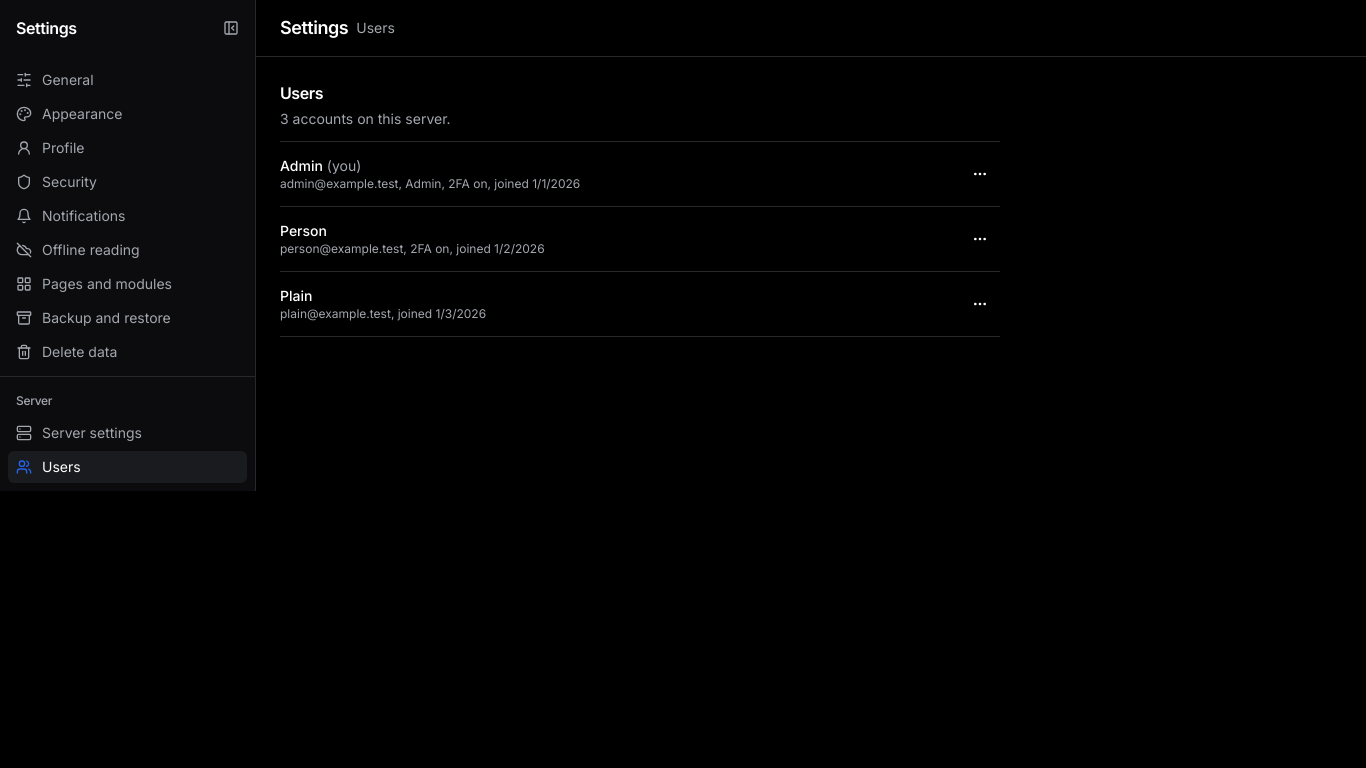
admin changes to another account › a role change waits for the admin password
Step 1. Press the mouse on the button named "Actions for plain@example.test" → (980, 304), box x1=960 y1=284 x2=1000 y2=324
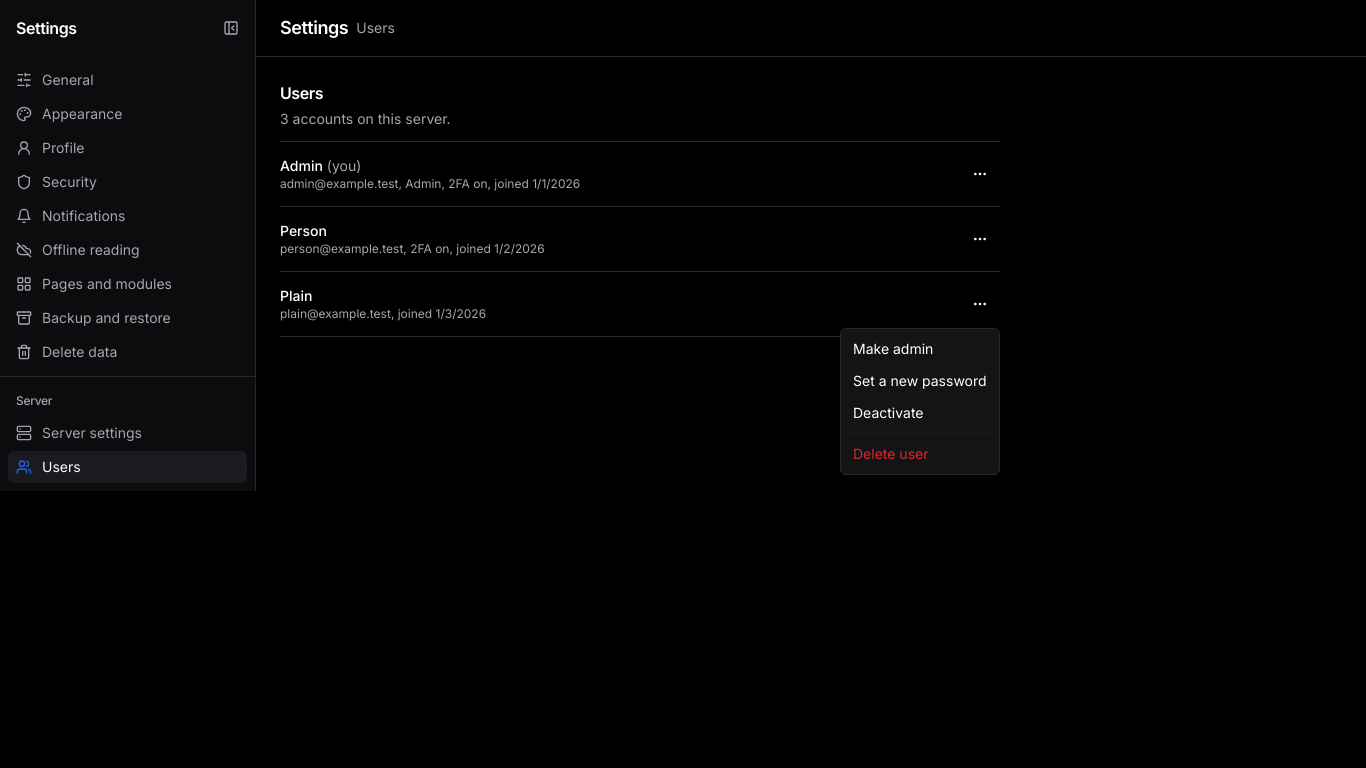
Step 2. Click the menu item "Make admin" → (893, 348), box x1=853 y1=340 x2=933 y2=357
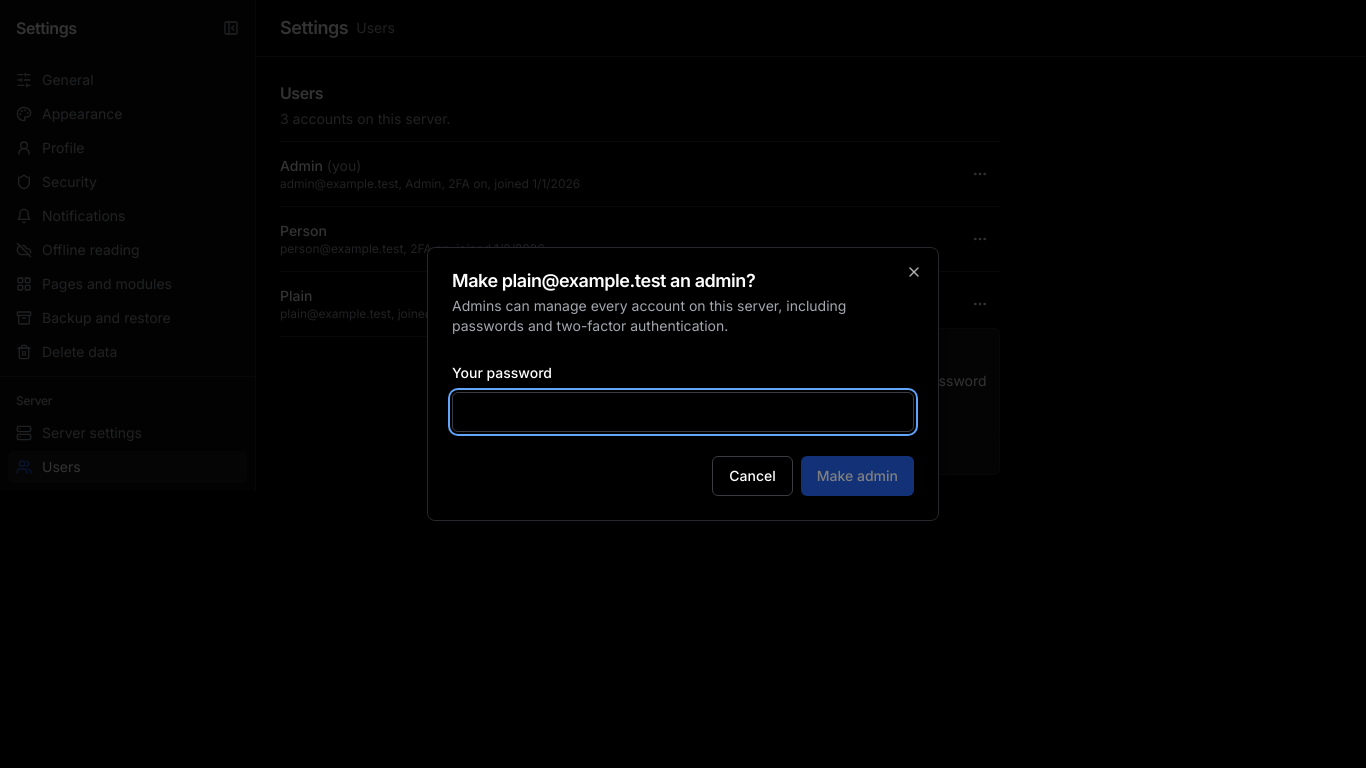
Check: the heading "Make plain@example.test an admin?" is shown, box x1=452 y1=270 x2=755 y2=291
Check: the button "Make admin" is disabled, box x1=801 y1=456 x2=914 y2=496
Step 3. Type "synthetic-admin-password" into the password field labelled "Your password" → (683, 412), box x1=452 y1=392 x2=914 y2=432
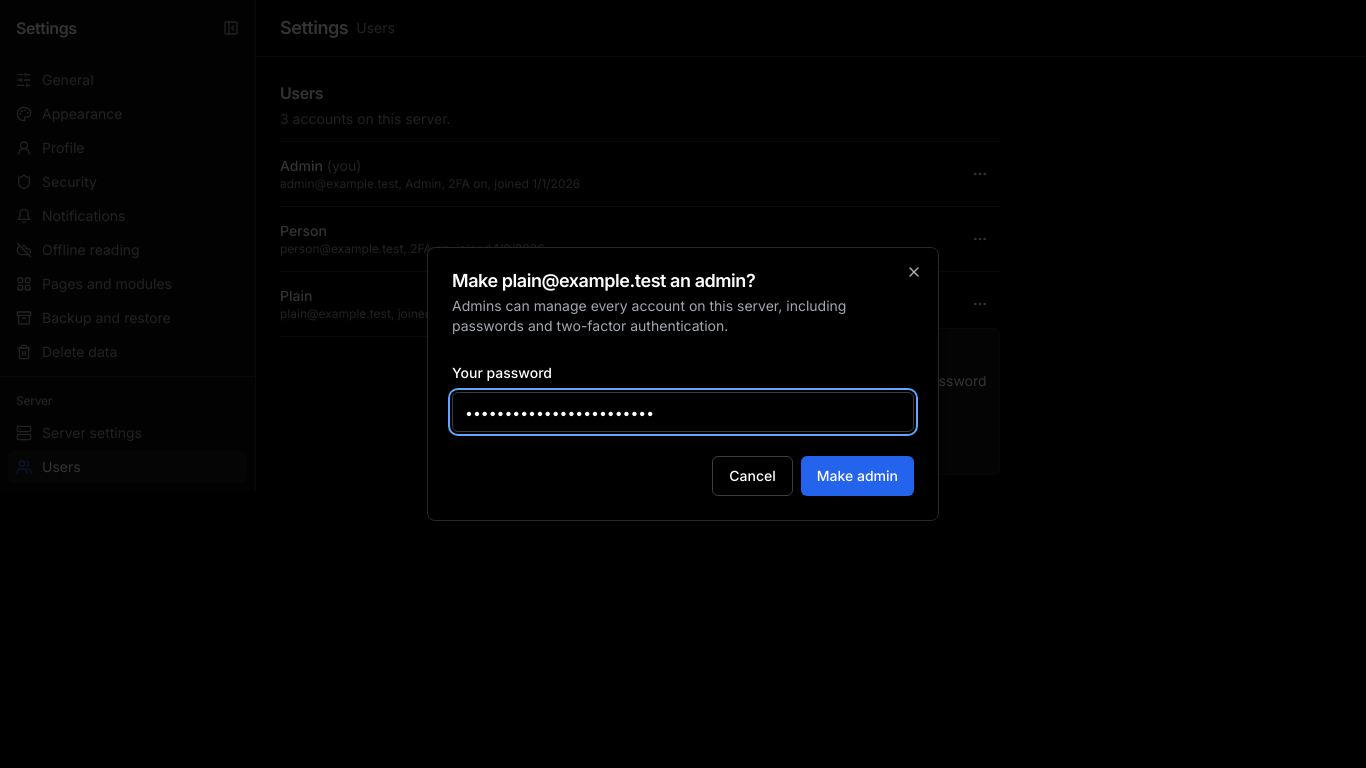
Step 4. Click the button "Make admin" → (857, 476), box x1=801 y1=456 x2=914 y2=496
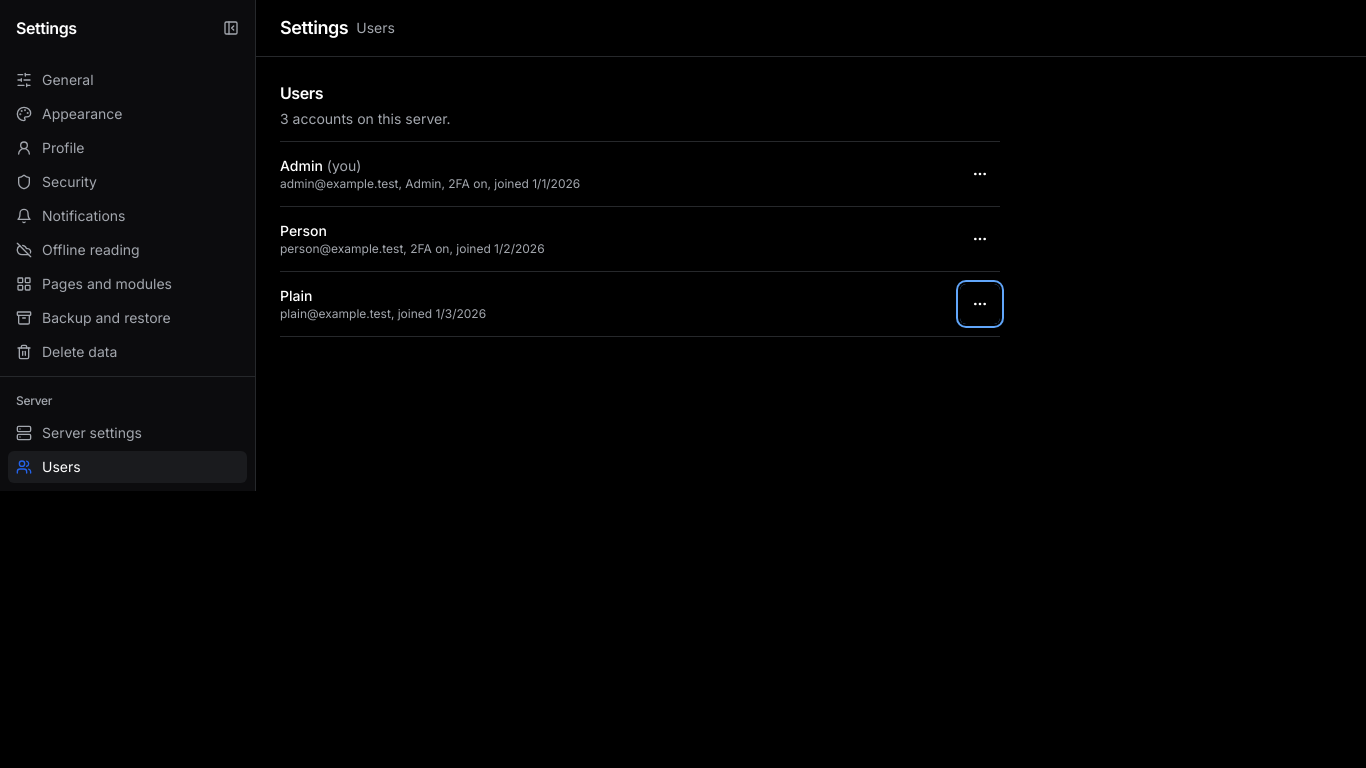
Check: the heading "Make plain@example.test an admin?" is gone
